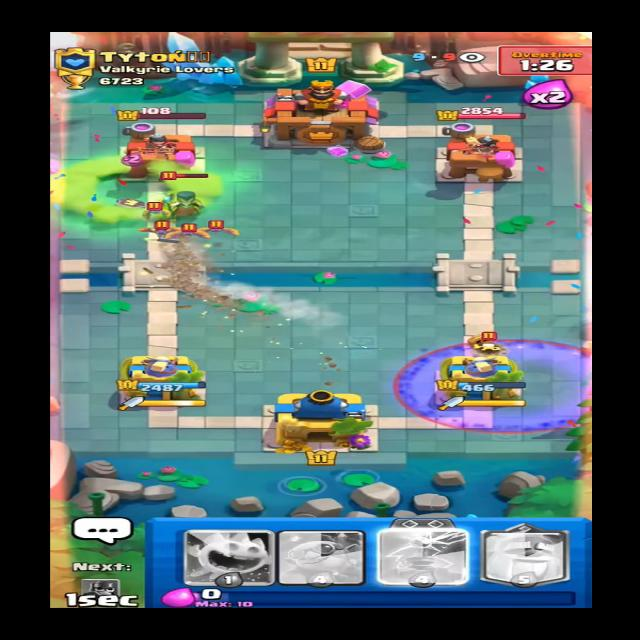bats: (144, 221, 180, 237), (140, 202, 172, 217), (202, 222, 230, 237)
graveyard: (393, 336, 604, 436)
night-witch: (162, 176, 218, 220)
skeleton: (467, 332, 506, 354)
